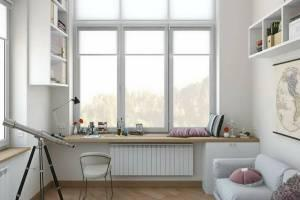window: (71, 22, 216, 134)
